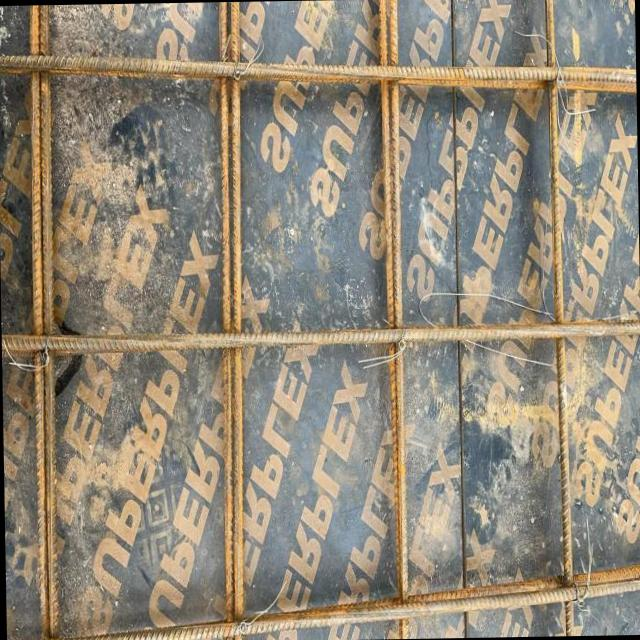ribbed bar: (5, 563, 640, 640), (0, 41, 636, 105), (1, 318, 640, 355), (213, 2, 250, 640), (374, 0, 409, 638), (27, 6, 58, 638), (544, 0, 573, 636)
